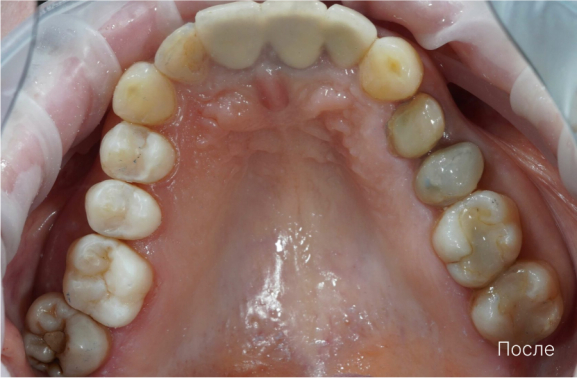UL1BC_healthy: (389, 97, 444, 156)
UL1M_healthy: (430, 196, 523, 279)
UL2BC_healthy: (418, 151, 485, 201)
UL2M_healthy: (477, 269, 564, 341)
ULCI_healthy: (263, 2, 327, 67)
ULC_healthy: (364, 42, 419, 99)
ULLI_healthy: (326, 9, 373, 66)
UR1BC_healthy: (101, 122, 174, 184)
UR1M_healthy: (68, 239, 156, 324)
UR2BC_healthy: (87, 179, 160, 240)
UR2M_decay: (28, 303, 108, 376)
URCI_healthy: (195, 3, 263, 69)
URC_decay: (116, 67, 177, 124)
URLI_decay: (154, 27, 208, 83)
